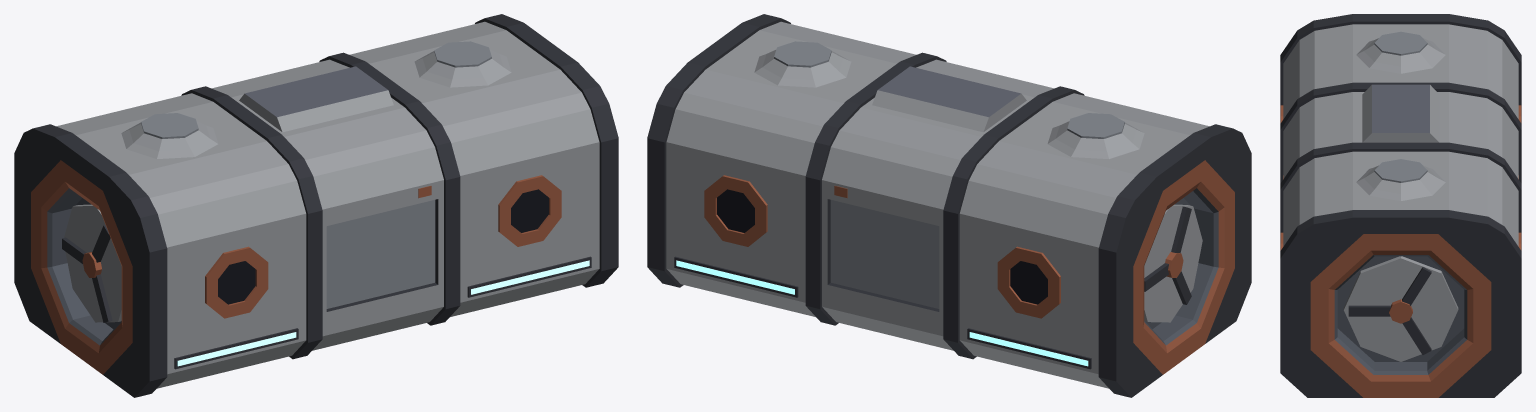
File: habitat-module-b8ecc4.glb
3 views of the same model, side by side, from view 1: azimuth 30°, elevation 25°; view 2: azimuth 150°, elevation 25°; view 3: azimuth 270°, elevation 25° (orthographic). The views are drawn at different scales.
Parts seen in each view (by area): view 1: hull, hatch-b, light-strip; view 2: hull, hatch-b, light-strip; view 3: hull, hatch-a.
Part boxes in pixels (left/top/right/bottom): hull: left=14, top=14, right=618, bottom=397; hatch-b: left=62, top=204, right=121, bottom=322; light-strip: left=177, top=260, right=589, bottom=366; hull: left=647, top=14, right=1251, bottom=397; hatch-b: left=1144, top=204, right=1202, bottom=322; light-strip: left=676, top=260, right=1088, bottom=366; hull: left=1280, top=14, right=1521, bottom=397; hatch-a: left=1343, top=256, right=1458, bottom=361.
Size of the model in its own units: 8 by 3.47 by 4.
